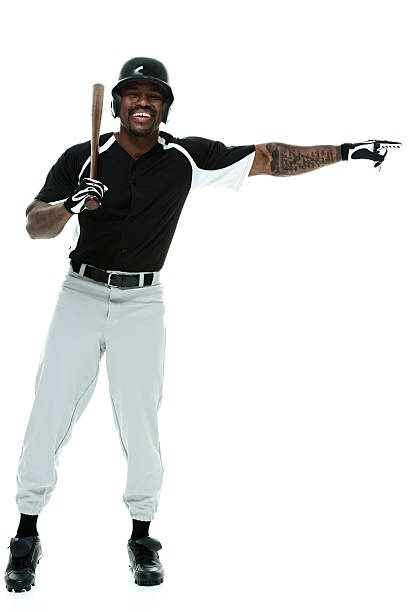bita: (84, 82, 107, 212)
